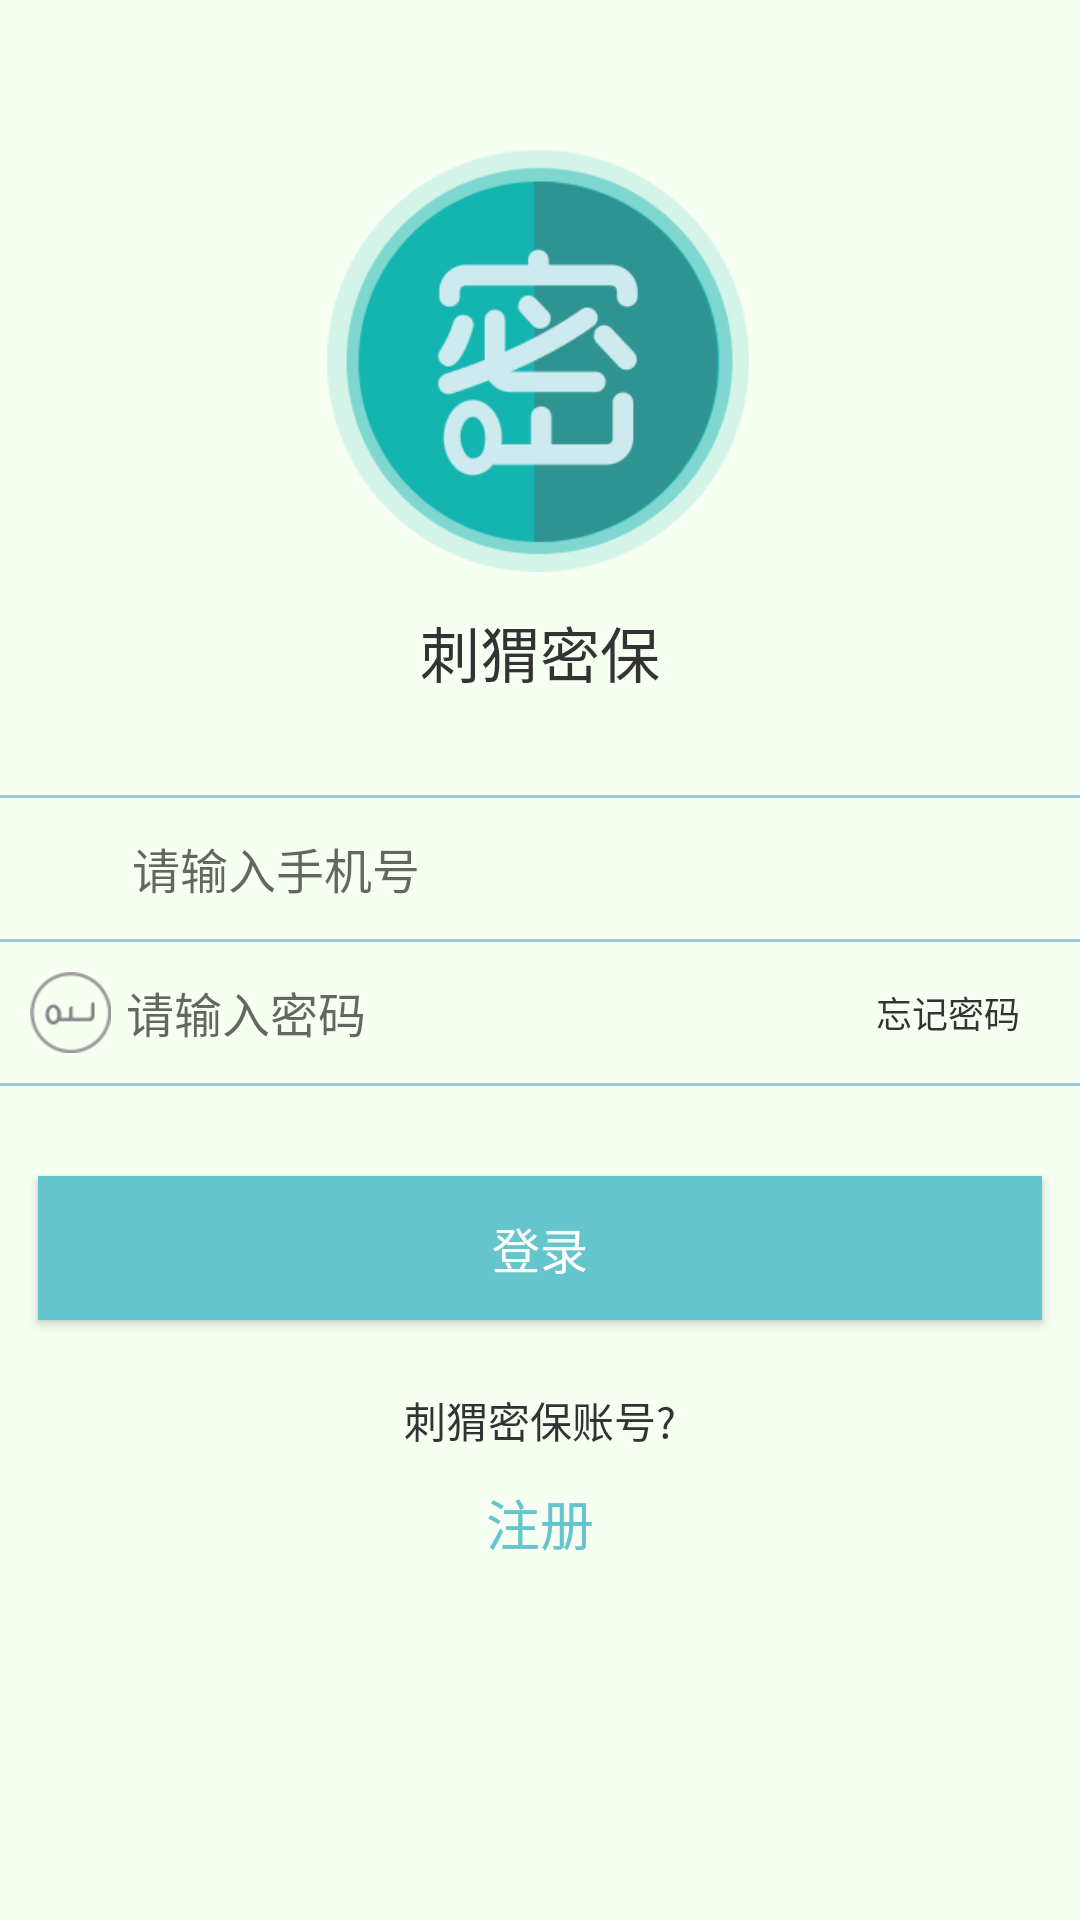

Icons on this 1080w x 1920h Android screen, each with the point to tap as (x,y):
login password: (70,1012)
